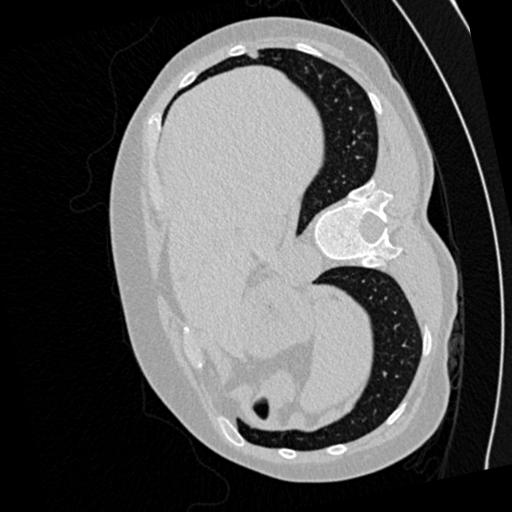nodule: (244, 44, 262, 62)
